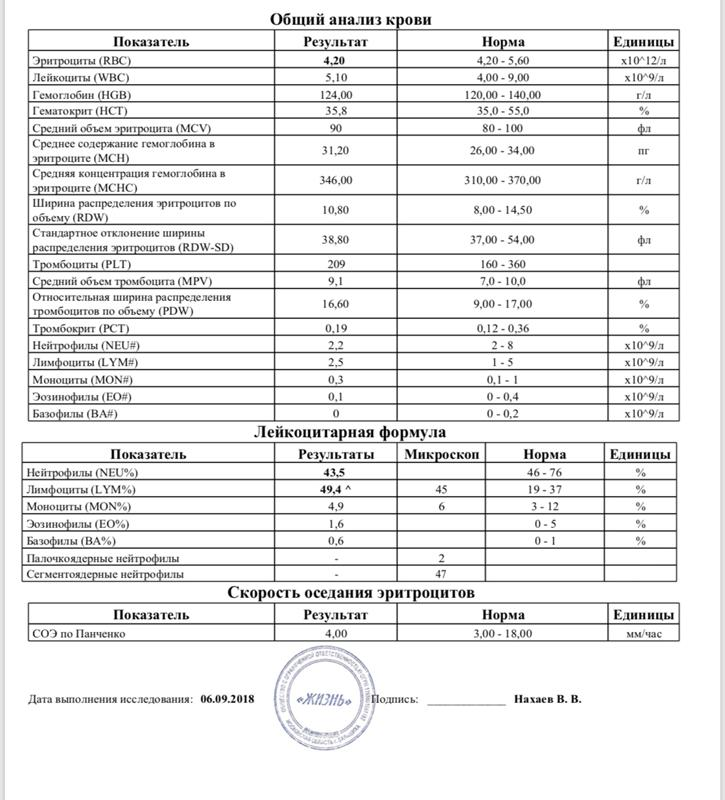column: (31, 29, 237, 421), (463, 29, 542, 421), (302, 29, 369, 421), (612, 29, 675, 421), (25, 442, 187, 581), (297, 442, 375, 581), (403, 442, 480, 581), (609, 442, 671, 581), (522, 442, 567, 581), (31, 603, 190, 641), (302, 603, 369, 641), (612, 603, 674, 641), (472, 603, 533, 641)
